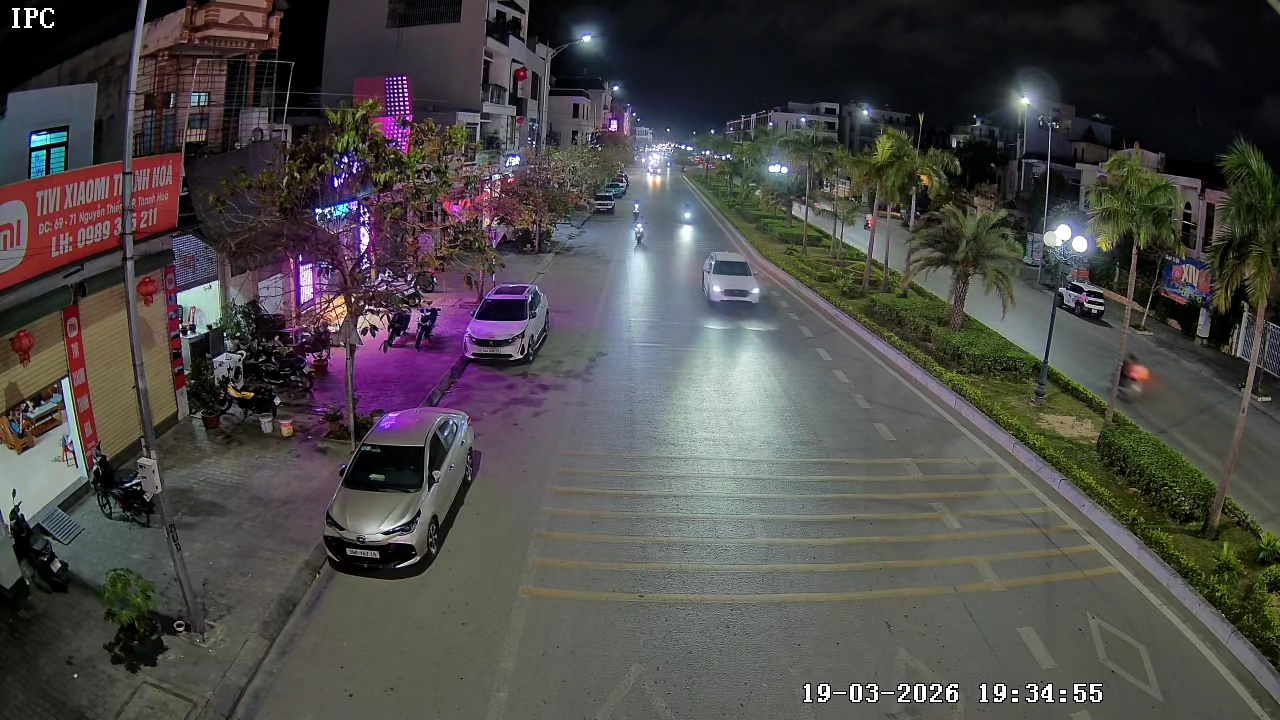car: (323, 405, 482, 576), (464, 281, 552, 364), (699, 248, 762, 310), (589, 188, 618, 217)
motorbike: (1110, 352, 1151, 404), (630, 209, 648, 248)
